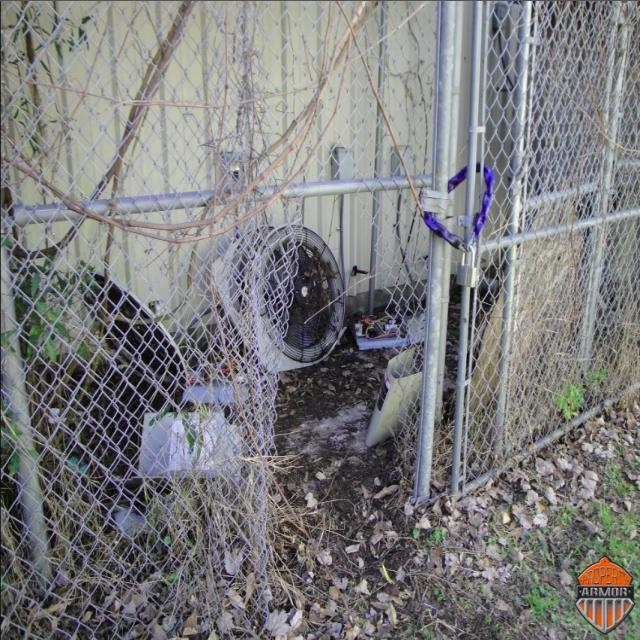fence line: (254, 164, 426, 568)
